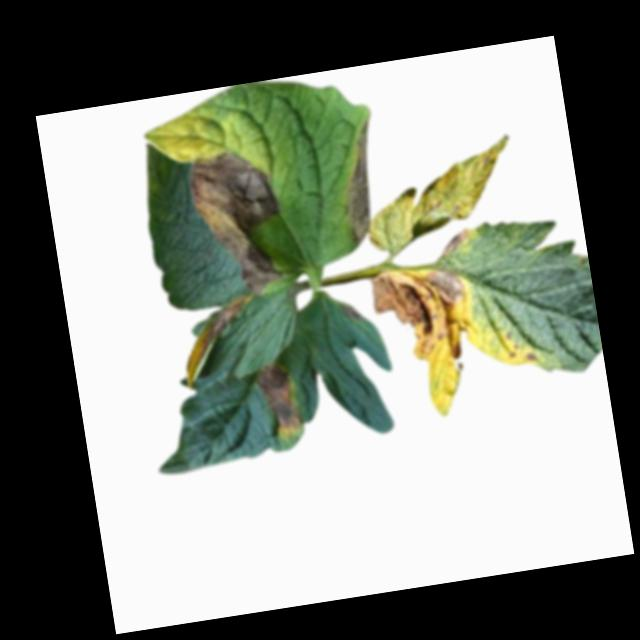Early_blight: (186, 144, 294, 303), (368, 261, 477, 375), (172, 298, 263, 389), (334, 121, 391, 244), (256, 360, 307, 443), (437, 225, 474, 258), (341, 300, 366, 324), (524, 346, 541, 366)
